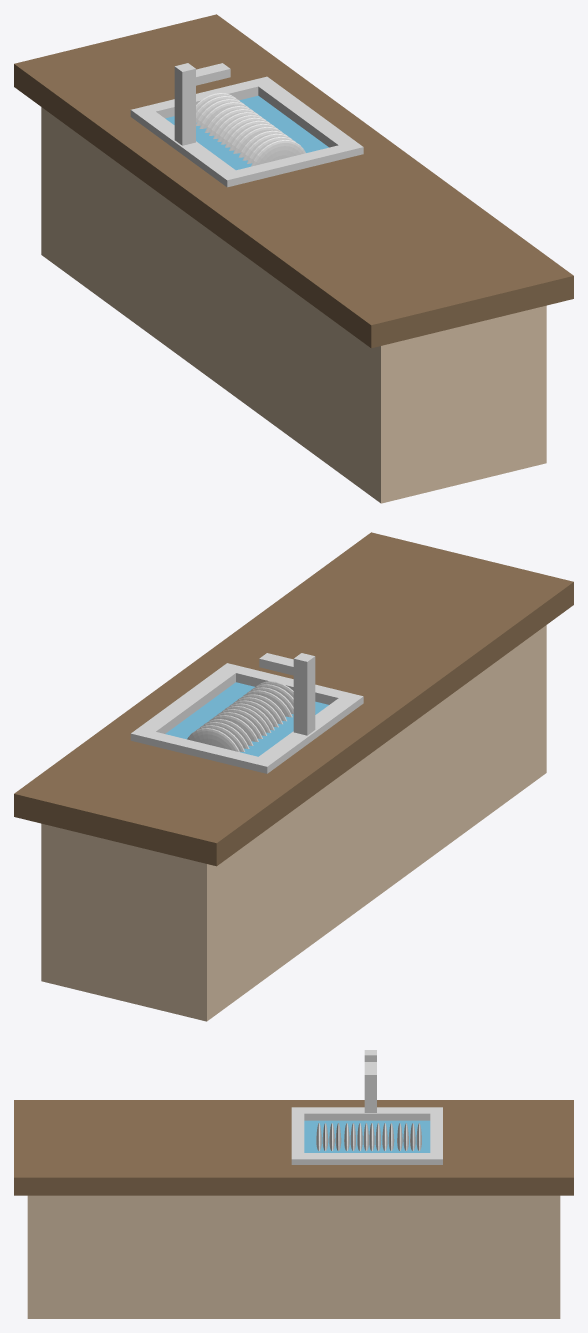
Rendered from counter.fbx.
3 views of the same model, one above another, from view 1: azimuth 30°, elevation 25°; view 2: azimuth 150°, elevation 25°; view 3: azimuth 270°, elevation 25° (orthographic). The views are drawn at different scales.
Parts seen in each view (by area): view 1: Cube, Cube.001, Cube.002, Sphere.002, Cube.003, Cube.004; view 2: Cube, Cube.001, Cube.002, Sphere.002, Cube.003, Cube.004; view 3: Cube, Cube.001, Cube.002, Cube.003, Sphere.002, Cube.004.
Boxes of the visible parts, bbox=[...] form: Cube: bbox=[41, 107, 546, 503]; Cube.001: bbox=[14, 14, 573, 348]; Cube.002: bbox=[130, 76, 363, 187]; Sphere.002: bbox=[196, 93, 305, 166]; Cube.003: bbox=[165, 95, 328, 170]; Cube.004: bbox=[174, 63, 195, 145]; Cube: bbox=[41, 625, 546, 1021]; Cube.001: bbox=[14, 532, 573, 866]; Cube.002: bbox=[130, 663, 363, 773]; Sphere.002: bbox=[187, 681, 293, 752]; Cube.003: bbox=[165, 682, 328, 756]; Cube.004: bbox=[293, 653, 315, 735]; Cube: bbox=[27, 1195, 560, 1318]; Cube.001: bbox=[14, 1100, 573, 1195]; Cube.002: bbox=[291, 1107, 442, 1164]; Cube.003: bbox=[304, 1120, 430, 1152]; Sphere.002: bbox=[316, 1123, 421, 1151]; Cube.004: bbox=[364, 1050, 376, 1112].
Bounding box in the file's own units: 677 × 862 × 2066.
